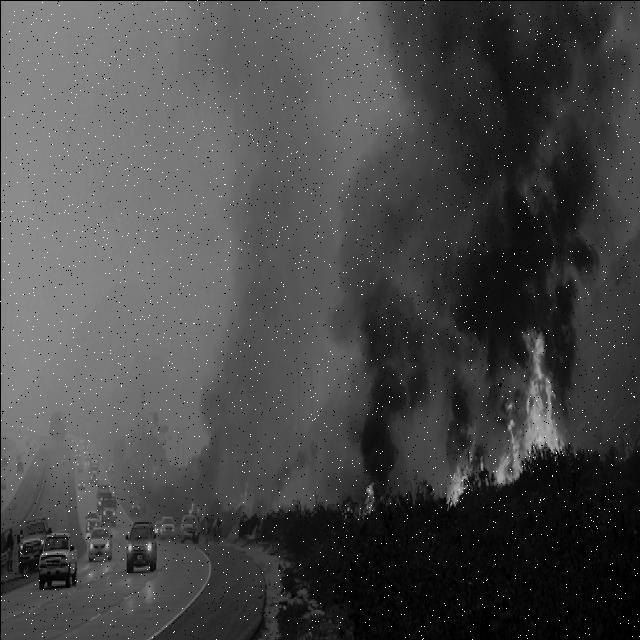api: (518, 331, 566, 460), (491, 423, 515, 487), (443, 459, 469, 505), (364, 487, 375, 511)
asap: (343, 1, 631, 324), (185, 2, 322, 490), (344, 327, 418, 484), (422, 323, 494, 455)
